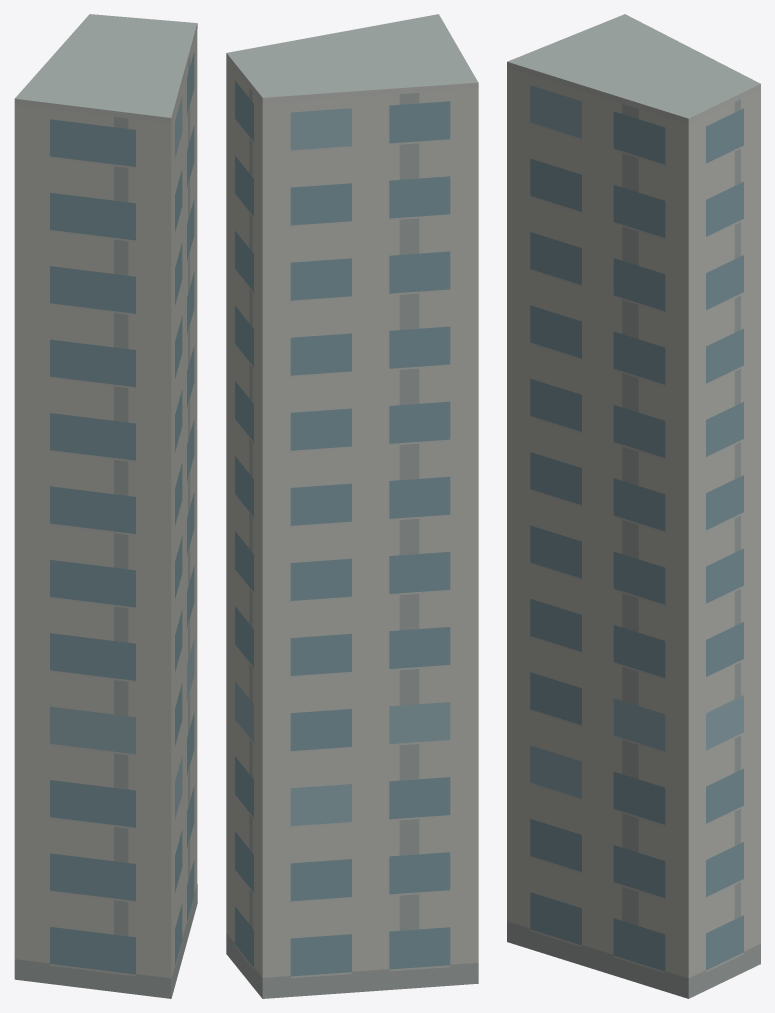
Rendered from survey-upis-33009377.glb.
The picture shows the model from 3 angles, left to right: view 1: azimuth 30°, elevation 25°; view 2: azimuth 150°, elevation 25°; view 3: azimuth 270°, elevation 25°; orthographic projection. The views are drawn at different scales.
Visible parts, largest first — view 1: survey-upis-33009377.tmp; view 2: survey-upis-33009377.tmp; view 3: survey-upis-33009377.tmp.
Boxes of the visible parts, x1,y1,x2,y2 form: survey-upis-33009377.tmp: [14, 14, 197, 998]; survey-upis-33009377.tmp: [226, 14, 478, 998]; survey-upis-33009377.tmp: [507, 14, 760, 998].
Bounding box in the file's own units: 9.34 × 36.6 × 9.57.
